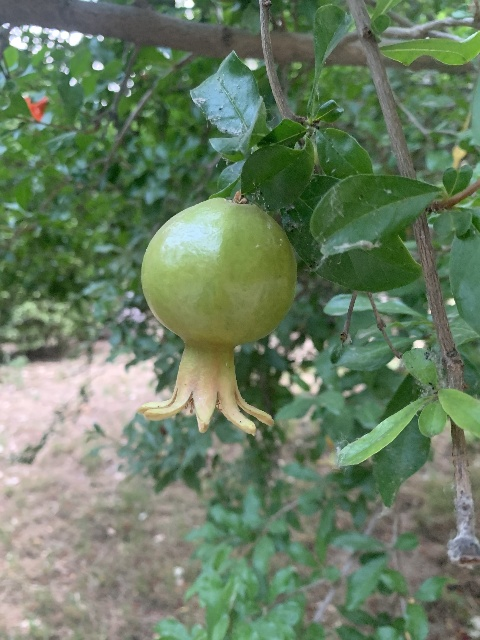flower: (23, 95, 48, 122)
mid-growth: (137, 197, 296, 436)
